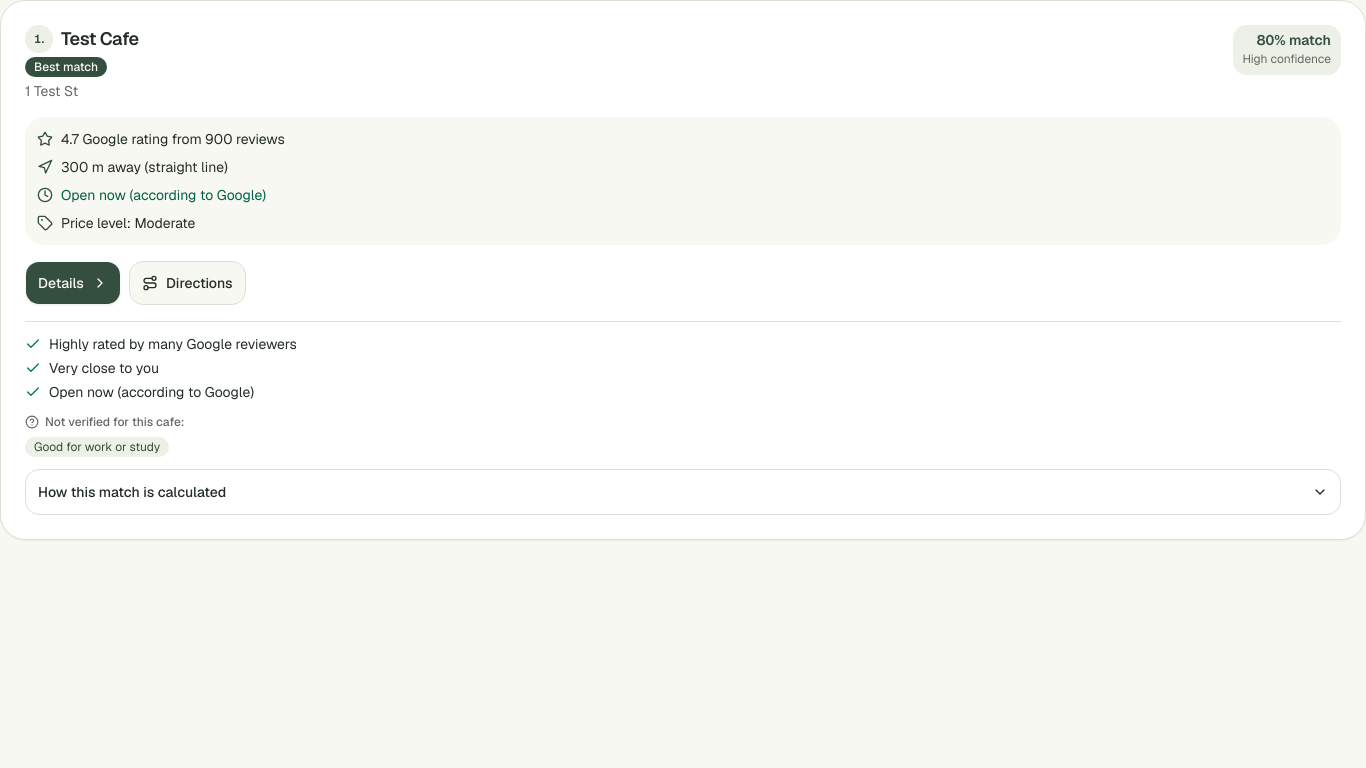
Test case: CafeCard › explains the score breakdown on request
The width and height of the screenshot is (1366, 768).
Click the heading "How this match is calculated" at (132, 492), box [38,483,1328,501]
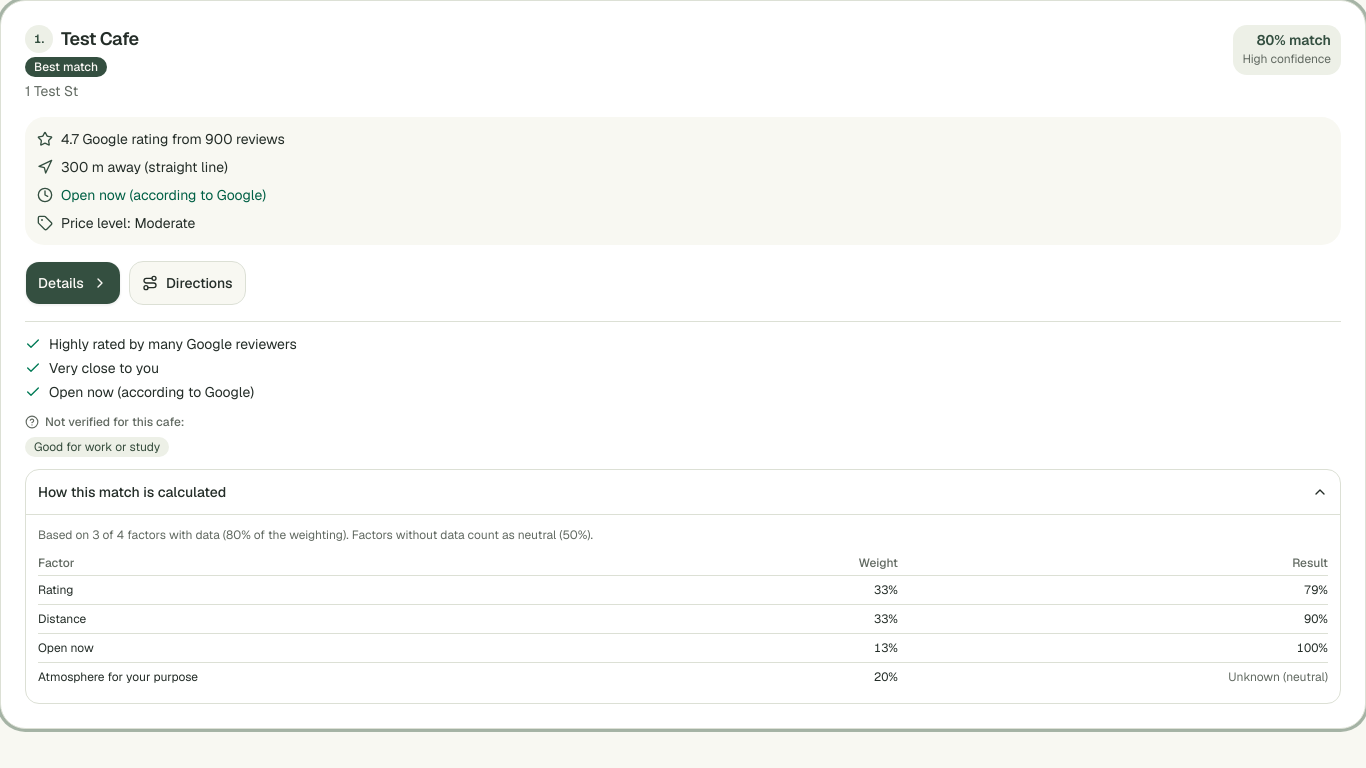
Expected: the column heading "Rating" is shown, [38,576,728,604]
Expected: the text "Unknown (neutral)" is shown, [898,662,1328,691]
Expected: the text "Based on 3 of 4 factors with data" is shown, [38,527,593,543]
